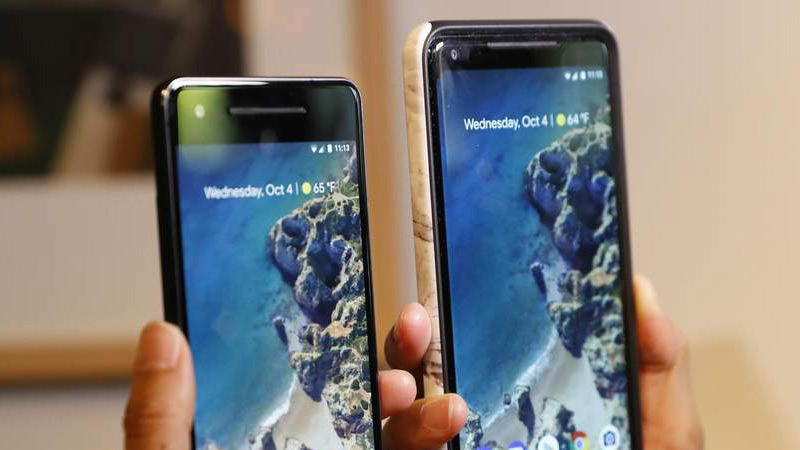Phone: (401, 18, 645, 450), (147, 72, 382, 450)
